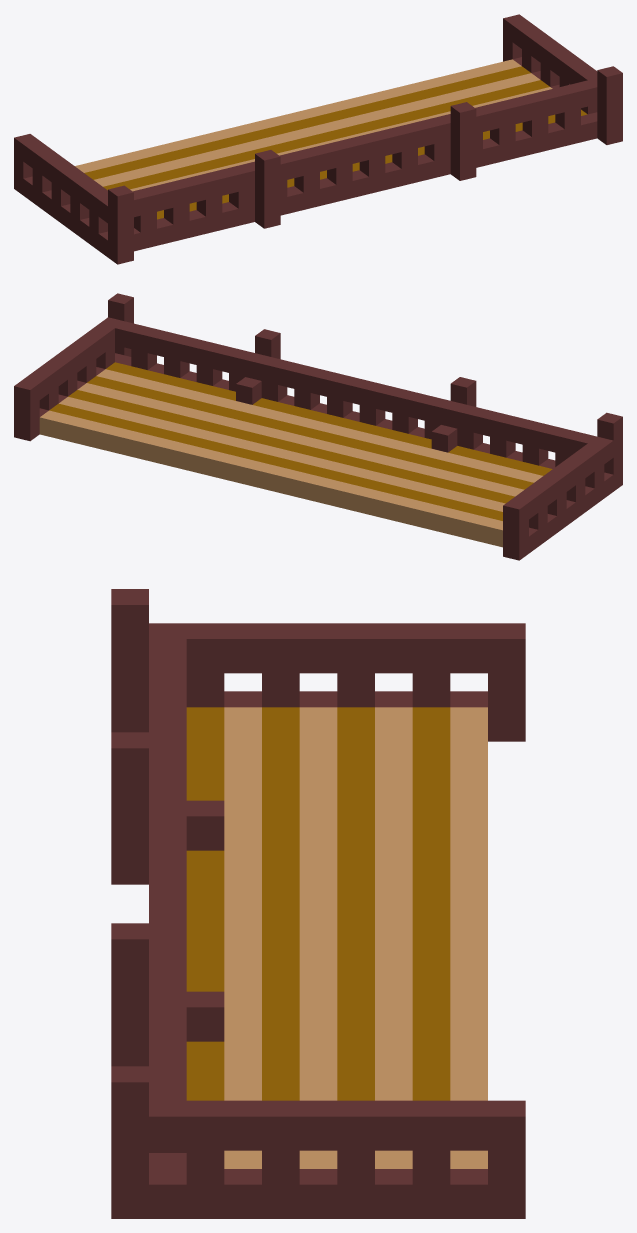
File: observation-platform.glb
3 renders of one model, top to bottom at view 1: azimuth 30°, elevation 25°; view 2: azimuth 150°, elevation 25°; view 3: azimuth 270°, elevation 25°, orthographic. The views are drawn at different scales.
Visible parts, largest first — view 1: Asset3DLoader.sceneRoot; view 2: Asset3DLoader.sceneRoot; view 3: Asset3DLoader.sceneRoot.
Boxes of the visible parts, x1,y1,x2,y2 form: Asset3DLoader.sceneRoot: (14, 14, 622, 264); Asset3DLoader.sceneRoot: (14, 293, 622, 560); Asset3DLoader.sceneRoot: (111, 589, 525, 1218).
Bounding box in the file's own units: 3.1 × 0.4 × 1.1.
Materials: 1 (1 with a texture image).
